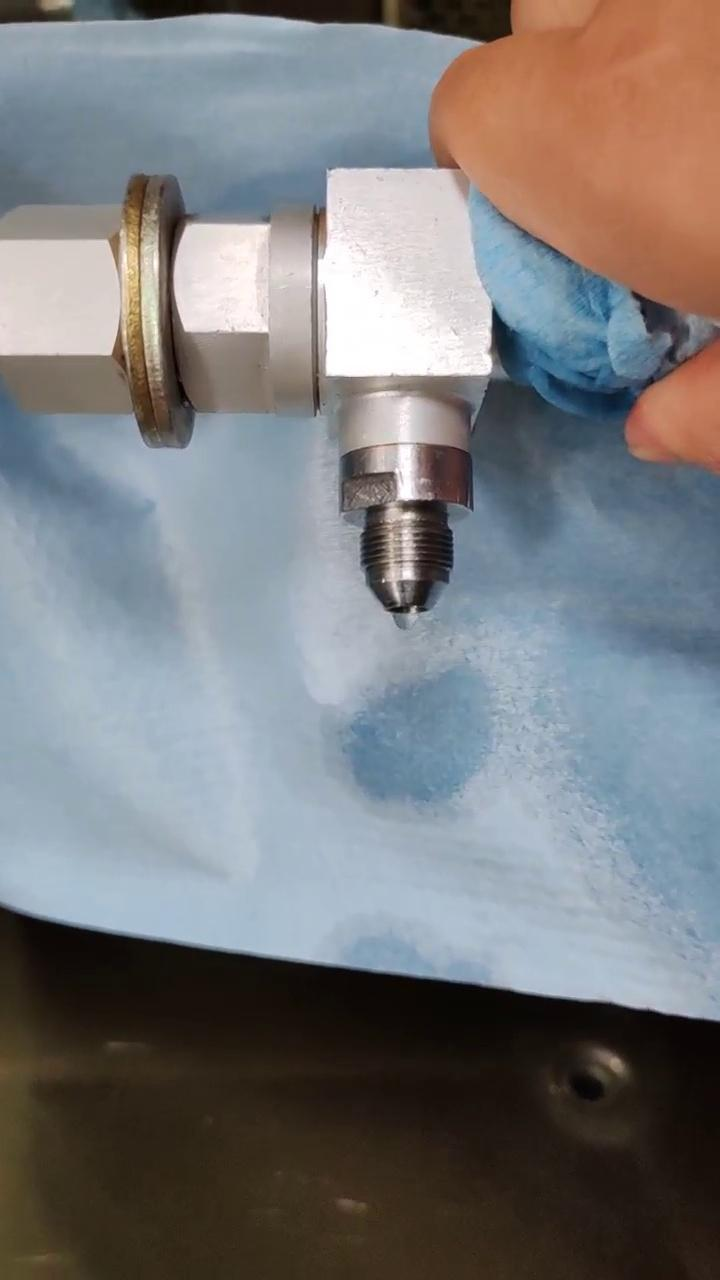water drop: (393, 607, 418, 631)
